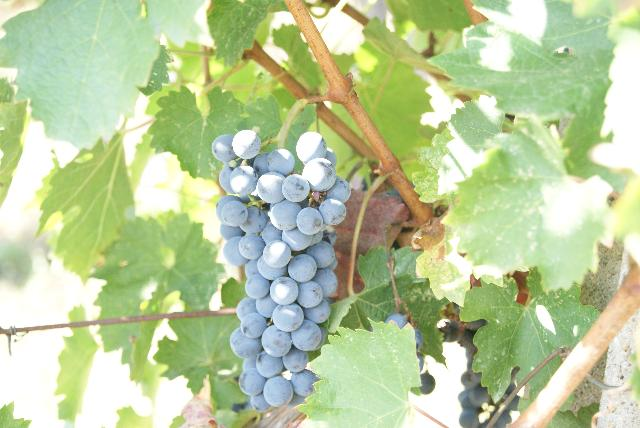grapes: (211, 130, 350, 411)
